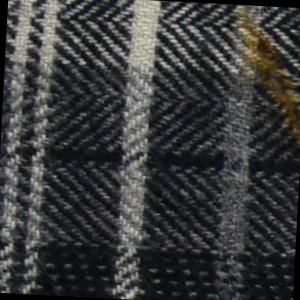Oil Stain: (228, 5, 300, 151)
